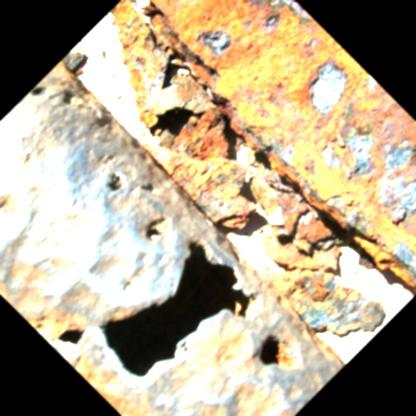burst: (84, 232, 256, 366)
